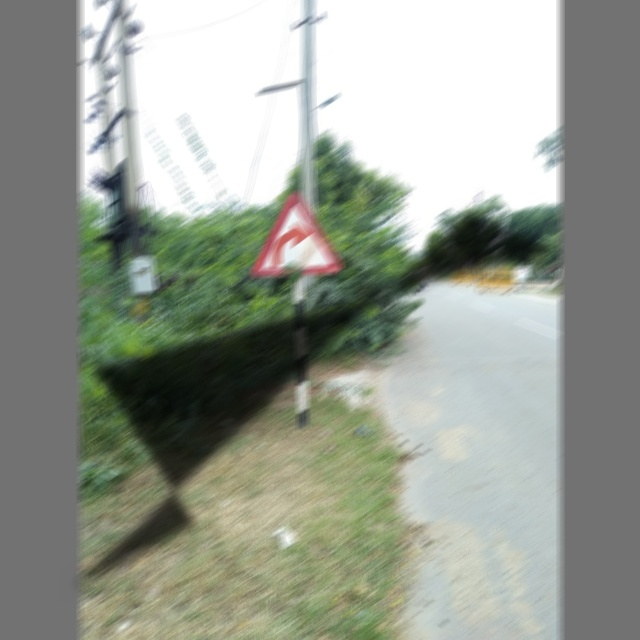Right_Hand_Curve: (252, 189, 345, 279)
